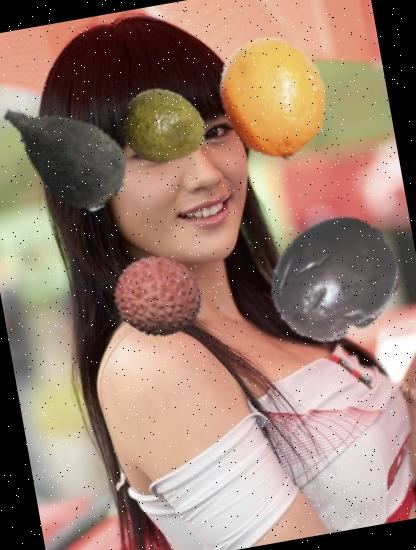Apple: (310, 220, 406, 316)
Beetroot: (0, 67, 152, 241)
Guava: (117, 78, 213, 174)
Lemon: (200, 24, 348, 172)
Lychee: (106, 242, 212, 350)
Passion: (255, 201, 413, 359)
